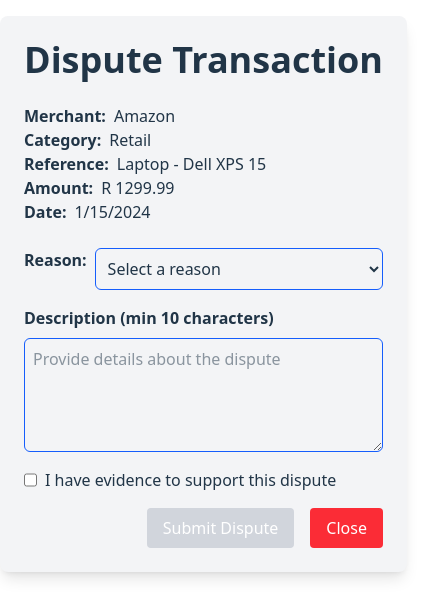
Test: DisputeForm › enables submit button when form is valid
Select "Unauthorized Transaction" in the dropdown at (239, 269), box [95,248,383,290]
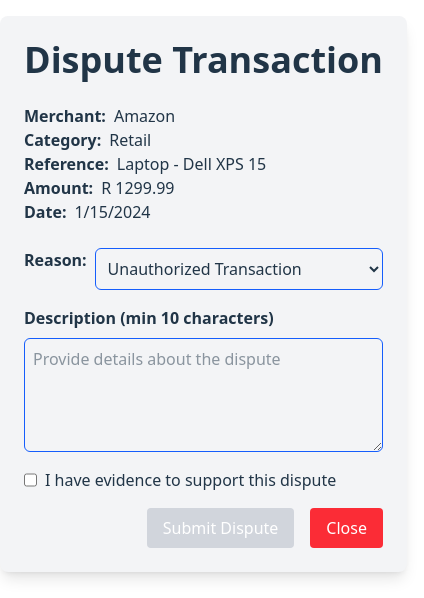
Type "This is a valid description" into the text box at (204, 395), box [24,338,383,452]
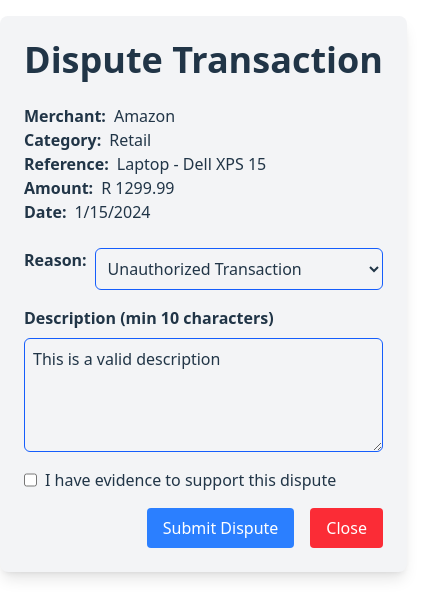
Expected: the button "Submit Dispute" is enabled, [147,508,294,548]
